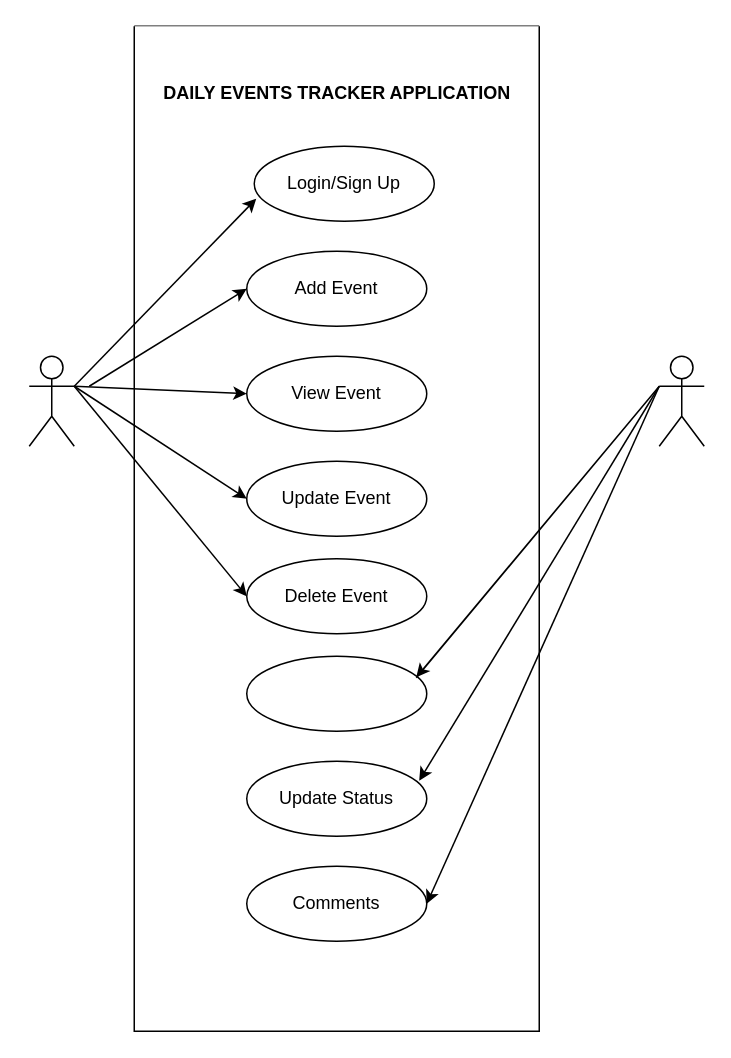
This 731x1058 diagram has some shape labels left out. Here are the shapes that lost their labels. From the top down, the box of each, then its label:
(28, 355, 74, 446): Admin
(658, 355, 704, 446): User
(245, 655, 427, 731): Search Event
